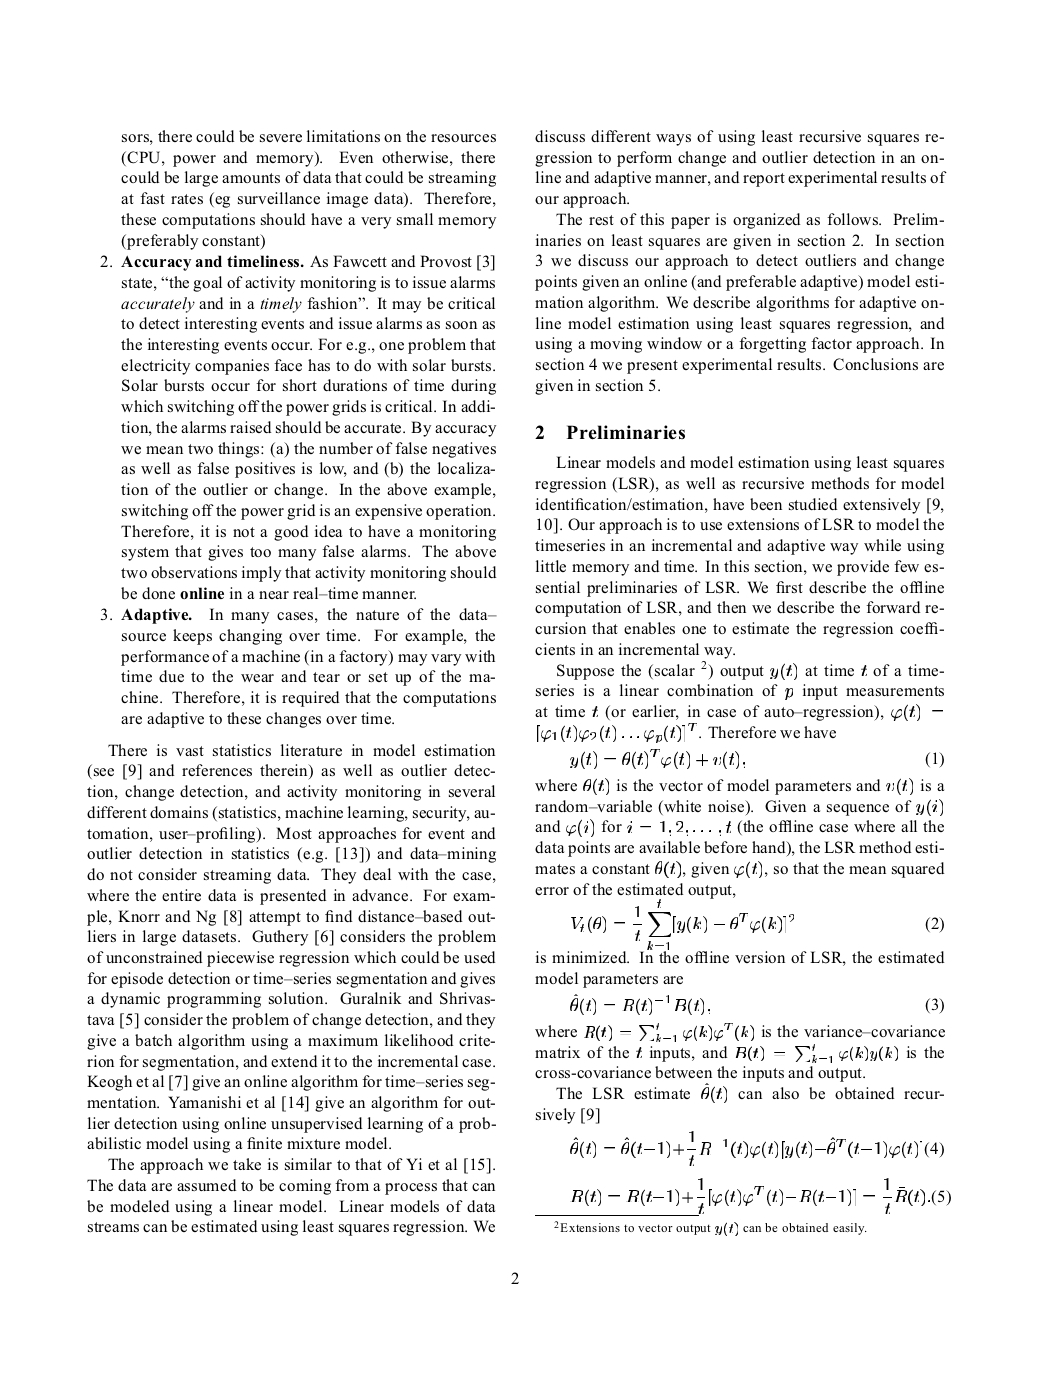formula: (571, 899, 943, 950), (535, 1177, 950, 1216), (570, 1130, 943, 1166), (570, 993, 943, 1015), (570, 748, 943, 769)
